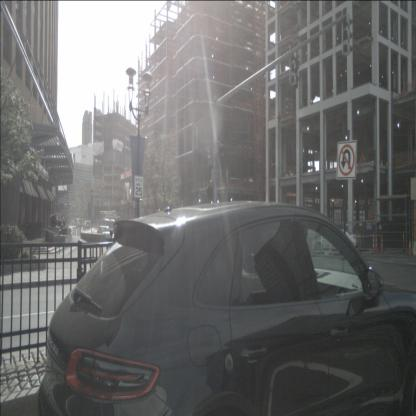movable_object-trafficcone: (380, 234, 384, 254), (402, 232, 406, 252), (371, 234, 375, 254), (407, 242, 412, 256), (375, 233, 378, 254)
vehicle-car: (37, 197, 415, 415), (310, 224, 359, 256), (96, 225, 112, 240), (75, 218, 85, 229), (82, 219, 91, 230)
